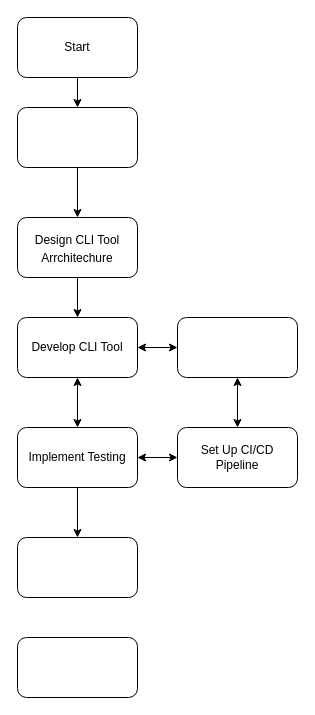
Image size: 315x715. Some labels were removed from this diagram. Here are the shapes that lost their labels. From the top down, the centre of each, then its label:
the point at 77,137: Analyze Current Process
the point at 237,347: Integrate with Swaggerhub
the point at 77,567: Package in docker
